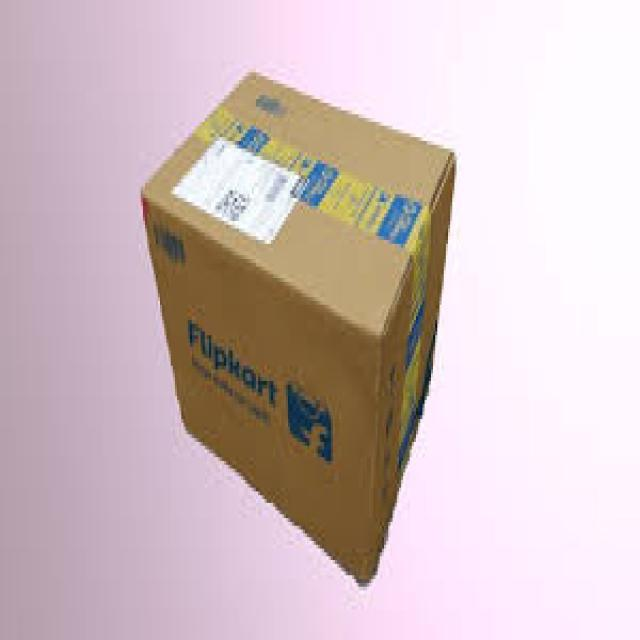cardboxes: (139, 72, 457, 589)
